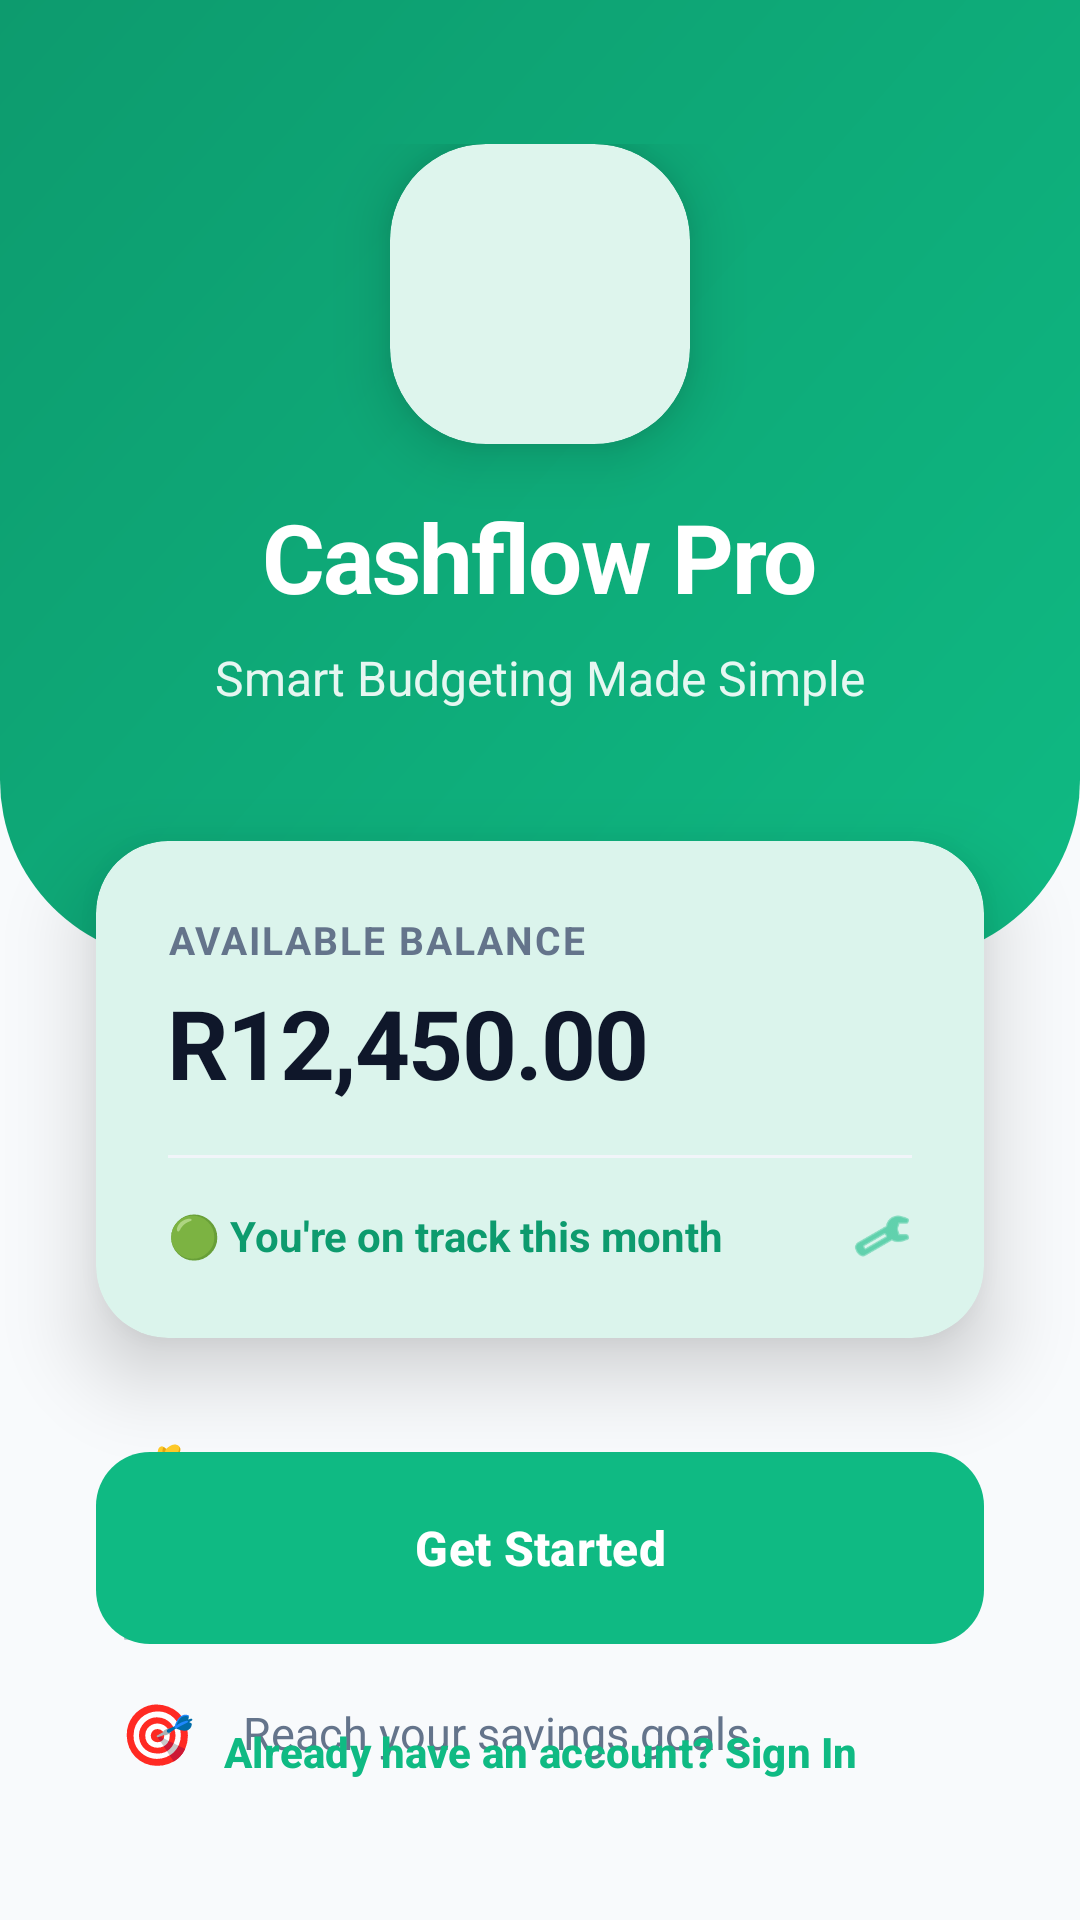

Screen size 1080×1920. Icon name, then its box in pixels as (x1, y1, x2, y2):
manage: (855, 1215, 909, 1257)
